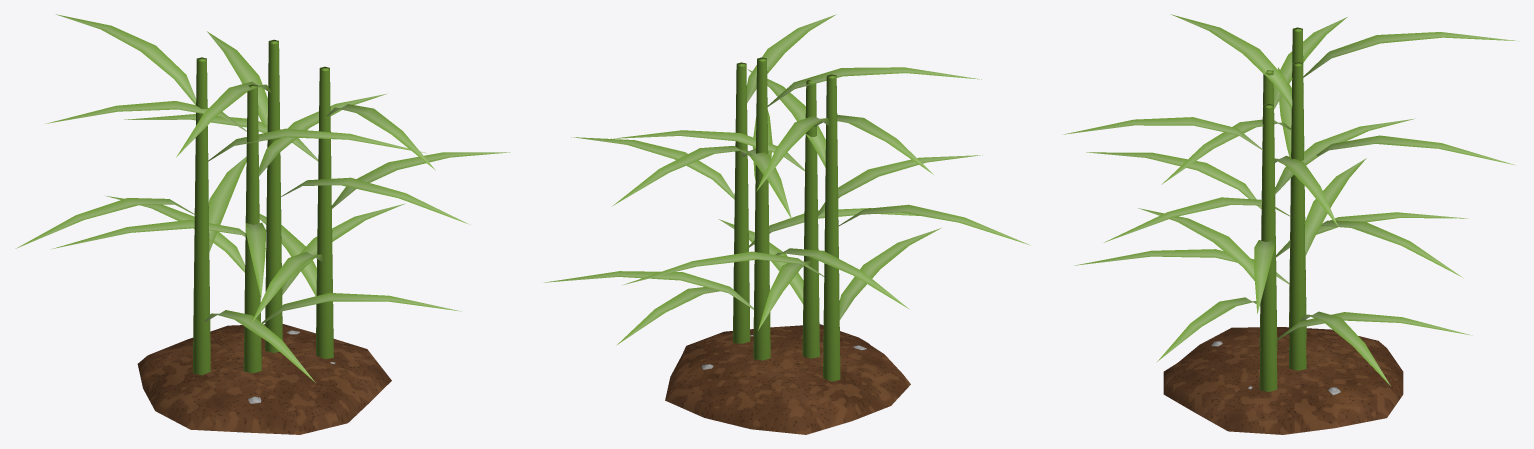
The model's file is plant-corn-3.glb.
3 renders of one model, left to right at view 1: azimuth 30°, elevation 25°; view 2: azimuth 150°, elevation 25°; view 3: azimuth 270°, elevation 25°, orthographic. The views are drawn at different scales.
Visible parts, largest first — view 1: plant-corn-3; view 2: plant-corn-3; view 3: plant-corn-3.
Boxes of the visible parts, x1=… form: plant-corn-3: x1=15, y1=14, x2=510, y2=434; plant-corn-3: x1=542, y1=14, x2=1030, y2=434; plant-corn-3: x1=1063, y1=14, x2=1518, y2=434.
Bounding box in the file's own units: 1.9 × 1.24 × 1.57.
Materials: 4 (2 with a texture image).
